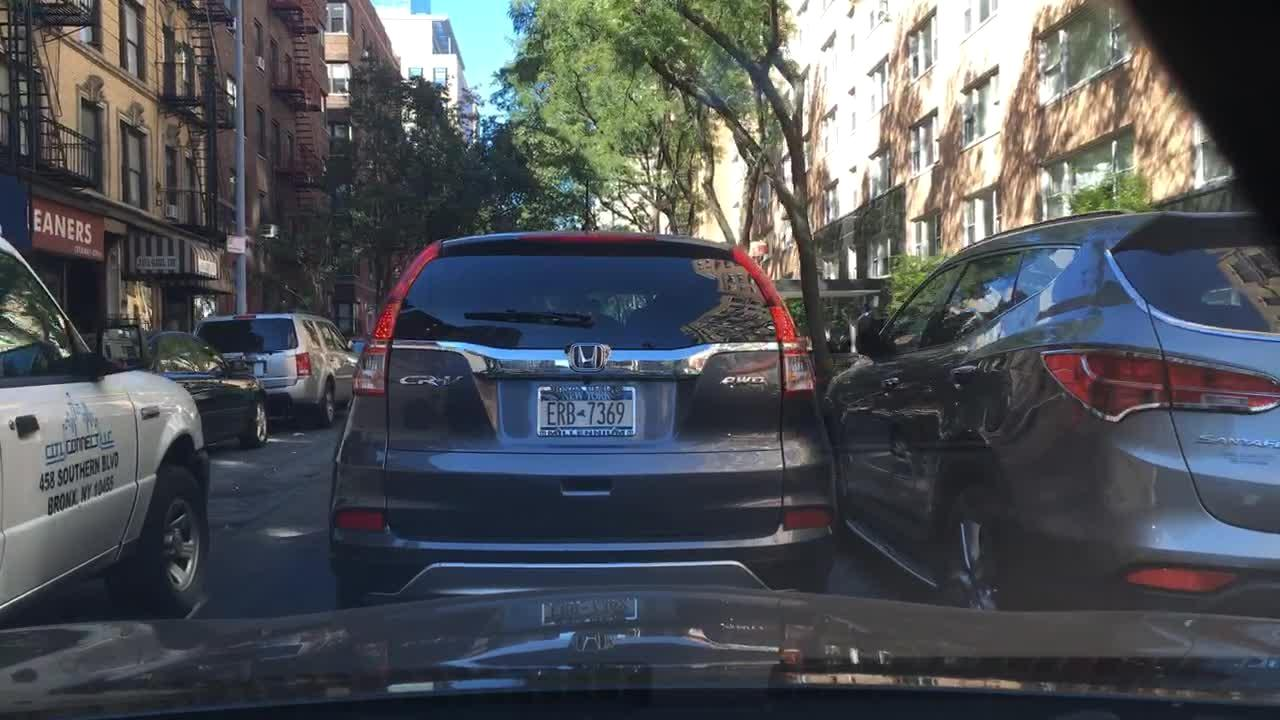Honda: (544, 323, 629, 390)
